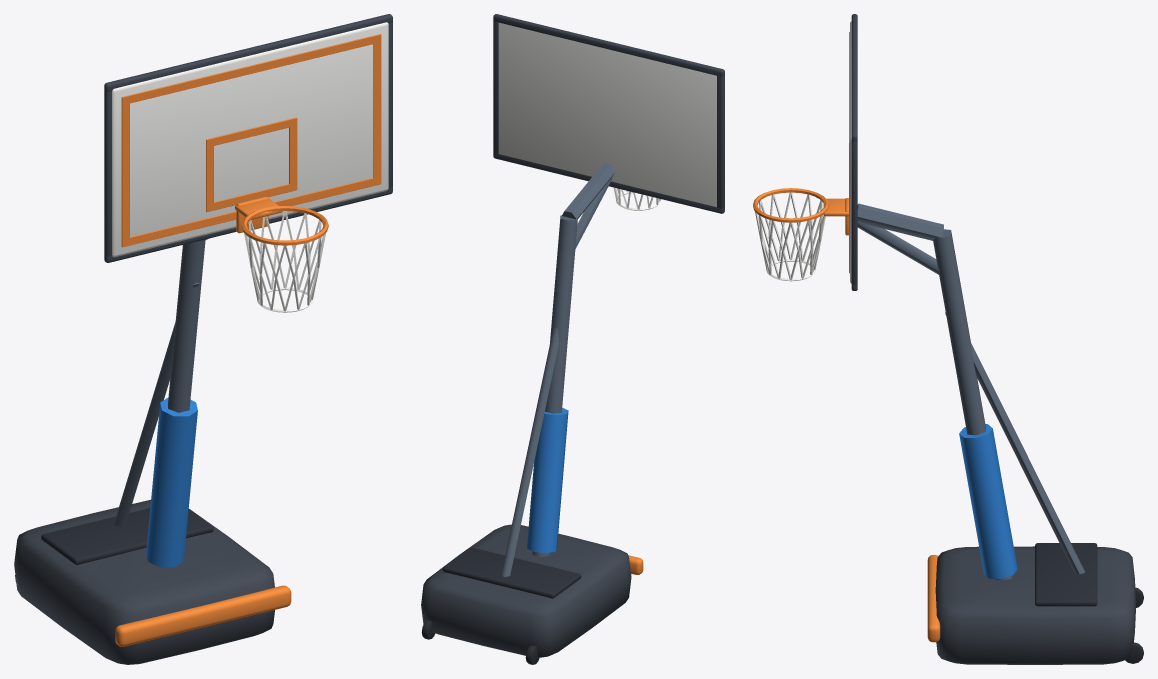
Rendered from tabela_basquete.glb.
3 renders of one model, left to right at view 1: azimuth 30°, elevation 25°; view 2: azimuth 150°, elevation 25°; view 3: azimuth 270°, elevation 25°, orthographic. The views are drawn at different scales.
Visible parts, largest first — view 1: tabela_basquete; view 2: tabela_basquete; view 3: tabela_basquete.
Boxes of the visible parts, <box> form: tabela_basquete: <box>14,14,392,664</box>; tabela_basquete: <box>421,14,724,664</box>; tabela_basquete: <box>753,14,1143,664</box>.
Bounding box in the file's own units: 1.86 × 3.98 × 2.51.
Materials: 1 (1 with a texture image).
